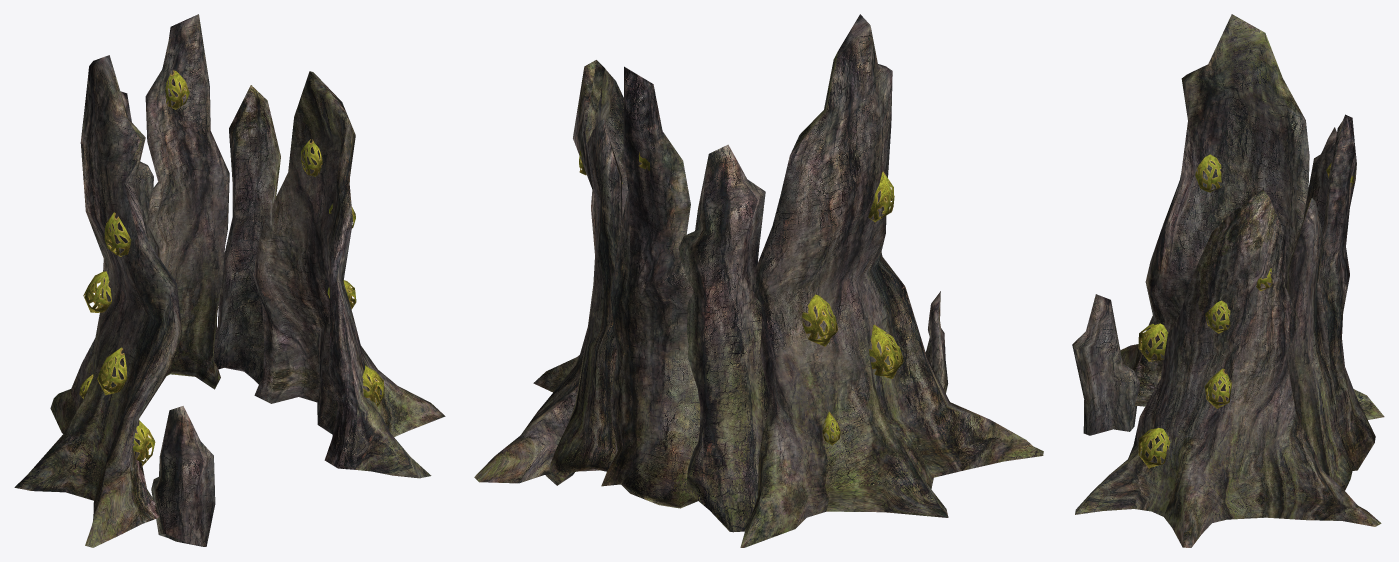
File: turtle_statue_tree.fbx
3 views of the same model, side by side, from view 1: azimuth 30°, elevation 25°; view 2: azimuth 150°, elevation 25°; view 3: azimuth 270°, elevation 25° (orthographic). The views are drawn at different scales.
Visible parts, largest first — view 1: objObject08, objObject09, objObject10, objObject11, objt02, Object01, objt1; view 2: objObject09, objObject10, objt1, objObject11, objObject08, Object01, objt02; view 3: objObject08, objObject09, objObject11, objObject10, objt02, Object01, objt1.
Boxes of the visible parts, x1,y1,x2,y2 form: objObject08: (253,71,445,478); objObject09: (14,55,182,547); objObject10: (145,14,229,389); objObject11: (213,85,280,384); objt02: (151,406,215,546); Object01: (79,70,384,465); objt1: (120,91,156,253); objObject09: (740,14,1043,547); objObject10: (601,66,700,508); objt1: (678,144,770,532); objObject11: (545,118,622,485); objObject08: (474,60,628,483); Object01: (579,150,903,445); objt02: (925,291,948,393); objObject08: (1075,189,1381,547); objObject09: (1120,14,1384,419); objObject11: (1287,198,1353,490); objObject10: (1317,114,1375,470); objt02: (1072,294,1139,435); Object01: (1138,154,1353,468); objt1: (1303,127,1336,230).
Size of the model in its own units: 52.22 by 54.89 by 37.36.
